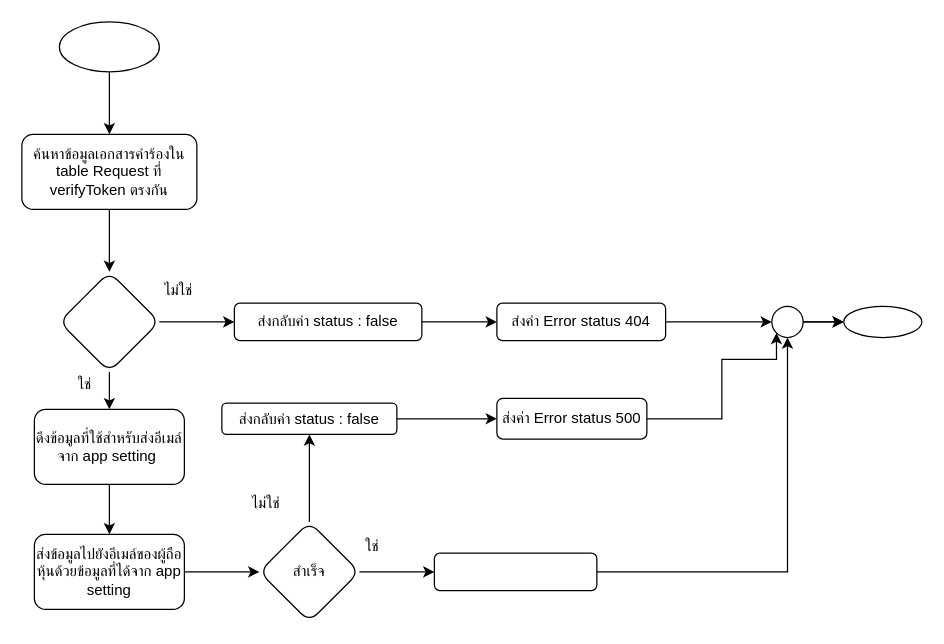
Image size: 944x644. Some labels were removed from this diagram. The shapes that lost their labels are listed below. From the top down, each one's centre as x and y in pixels, then its label:
At pixel 108 46: "เริ่มต้น".
At pixel 108 321: "มีข้อมูล".
At pixel 882 321: "สิ้นสุด".
At pixel 515 571: "ส่งกลับค่า status : true".
